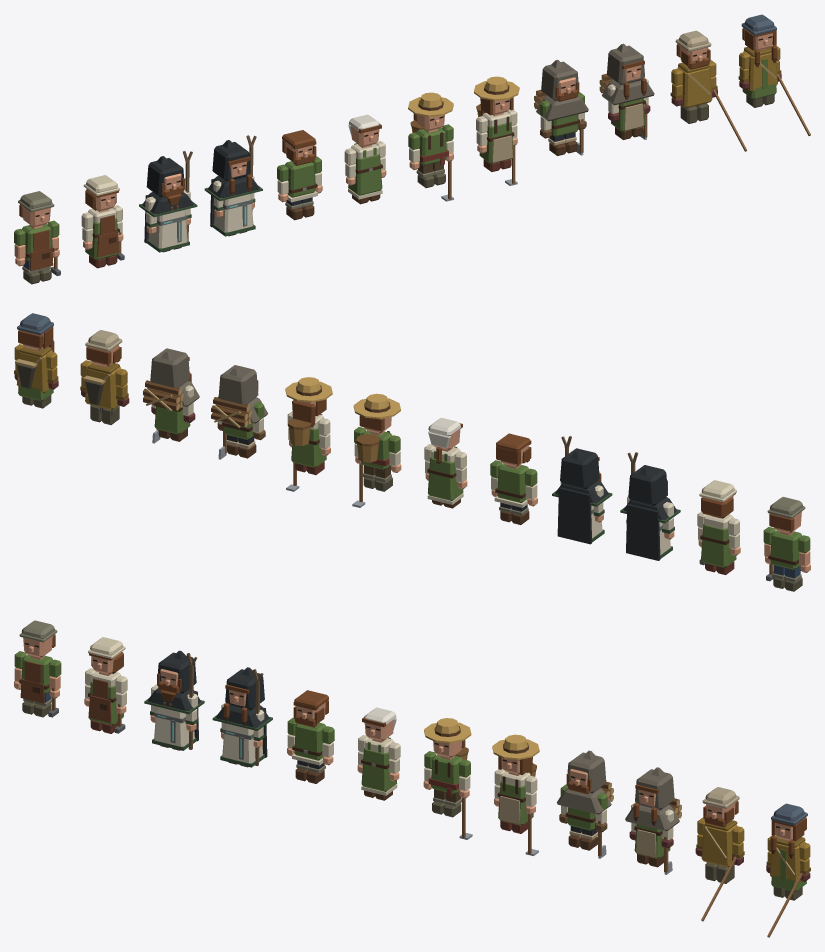
File: villagers.glb
3 renders of one model, top to bottom at view 1: azimuth 30°, elevation 25°; view 2: azimuth 150°, elevation 25°; view 3: azimuth 330°, elevation 25°, orthographic. The views are drawn at different scales.
Visible parts, largest first — view 1: villager_priest_f_Torso, villager_priest_m_Torso, villager_woodcutter_f_Torso, villager_idler_f_Torso, villager_priest_f_Head, villager_woodcutter_f_Head, villager_priest_m_Head, villager_woodcutter_m_Torso, villager_farmer_f_Torso, villager_farmer_f_Head, villager_builder_f_Torso, villager_fisherman_f_Torso (+12 smaller); view 2: villager_priest_f_Torso, villager_priest_m_Torso, villager_woodcutter_f_Torso, villager_fisherman_f_Torso, villager_farmer_f_Head, villager_idler_f_Torso, villager_woodcutter_m_Torso, villager_builder_f_Torso, villager_farmer_f_Torso, villager_fisherman_m_Torso, villager_priest_f_Head, villager_farmer_m_Head (+12 smaller); view 3: villager_priest_f_Torso, villager_priest_m_Torso, villager_woodcutter_f_Torso, villager_idler_f_Torso, villager_woodcutter_f_Head, villager_woodcutter_m_Torso, villager_farmer_f_Torso, villager_farmer_f_Head, villager_priest_f_Head, villager_priest_m_Head, villager_builder_f_Torso, villager_woodcutter_m_Head (+12 smaller).
Part boxes in pixels (box(x1,y1,x2,y2)): villager_priest_f_Torso: box(204, 176, 262, 236); villager_priest_m_Torso: box(139, 192, 197, 252); villager_woodcutter_f_Torso: box(599, 73, 654, 131); villager_idler_f_Torso: box(348, 143, 382, 199); villager_priest_f_Head: box(212, 140, 252, 196); villager_woodcutter_f_Head: box(607, 43, 646, 99); villager_priest_m_Head: box(146, 156, 184, 210); villager_woodcutter_m_Torso: box(534, 89, 588, 136); villager_farmer_f_Torso: box(476, 104, 514, 163); villager_farmer_f_Head: box(474, 76, 519, 116); villager_builder_f_Torso: box(85, 208, 119, 260); villager_fisherman_f_Torso: box(742, 47, 777, 99); villager_priest_f_Torso: box(552, 480, 612, 544); villager_priest_m_Torso: box(620, 497, 680, 560); villager_woodcutter_f_Torso: box(143, 380, 199, 434); villager_fisherman_f_Torso: box(15, 346, 53, 401); villager_farmer_f_Head: box(285, 377, 332, 426); villager_idler_f_Torso: box(427, 446, 463, 504); villager_woodcutter_m_Torso: box(211, 397, 267, 439); villager_builder_f_Torso: box(700, 514, 736, 567); villager_farmer_f_Torso: box(288, 414, 326, 467); villager_fisherman_m_Torso: box(83, 363, 120, 409); villager_priest_f_Head: box(560, 448, 601, 489); villager_farmer_m_Head: box(353, 393, 400, 435); villager_priest_f_Torso: box(212, 705, 272, 767); villager_priest_m_Torso: box(144, 688, 204, 750); villager_woodcutter_f_Torso: box(625, 798, 681, 858); villager_idler_f_Torso: box(361, 737, 397, 795); villager_woodcutter_f_Head: box(633, 767, 674, 825); villager_woodcutter_m_Torso: box(557, 781, 613, 830); villager_farmer_f_Torso: box(497, 763, 536, 825); villager_farmer_f_Head: box(492, 734, 539, 775); villager_priest_f_Head: box(223, 667, 264, 725); villager_priest_m_Head: box(157, 650, 196, 707); villager_builder_f_Torso: box(88, 671, 123, 725); villager_woodcutter_m_Head: box(566, 750, 606, 794).
Size of the model in its own units: 15.11 by 2.15 by 1.71.
